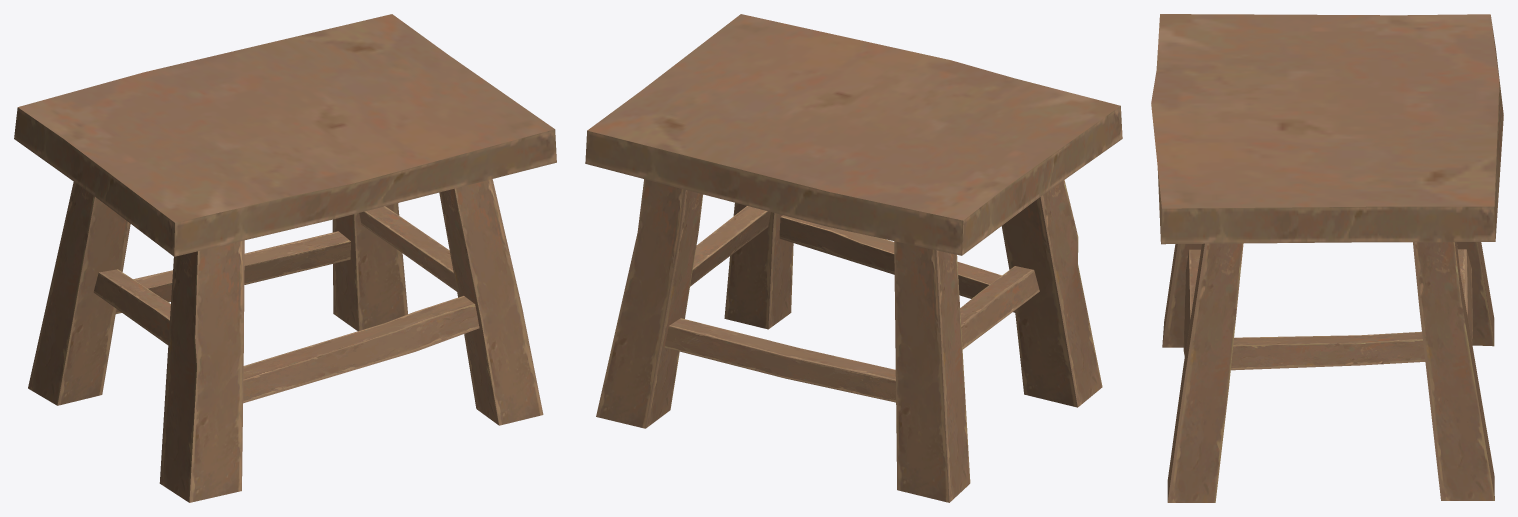
Rendered from Homeworld_Interior_Fd_Chair_Prop_Dengzi_01_Vo.fbx.
3 views of the same model, side by side, from view 1: azimuth 30°, elevation 25°; view 2: azimuth 150°, elevation 25°; view 3: azimuth 270°, elevation 25° (orthographic). The views are drawn at different scales.
Parts seen in each view (by area): view 1: Area_Fd_Prop_SXGC_Chair_01_Vo; view 2: Area_Fd_Prop_SXGC_Chair_01_Vo; view 3: Area_Fd_Prop_SXGC_Chair_01_Vo.
Part boxes in pixels (x1,y1,x2,y2): Area_Fd_Prop_SXGC_Chair_01_Vo: (14,14,556,502); Area_Fd_Prop_SXGC_Chair_01_Vo: (585,14,1122,502); Area_Fd_Prop_SXGC_Chair_01_Vo: (1151,14,1503,502).
Bounding box in the file's own units: 0.7087 × 0.5041 × 0.5391.
